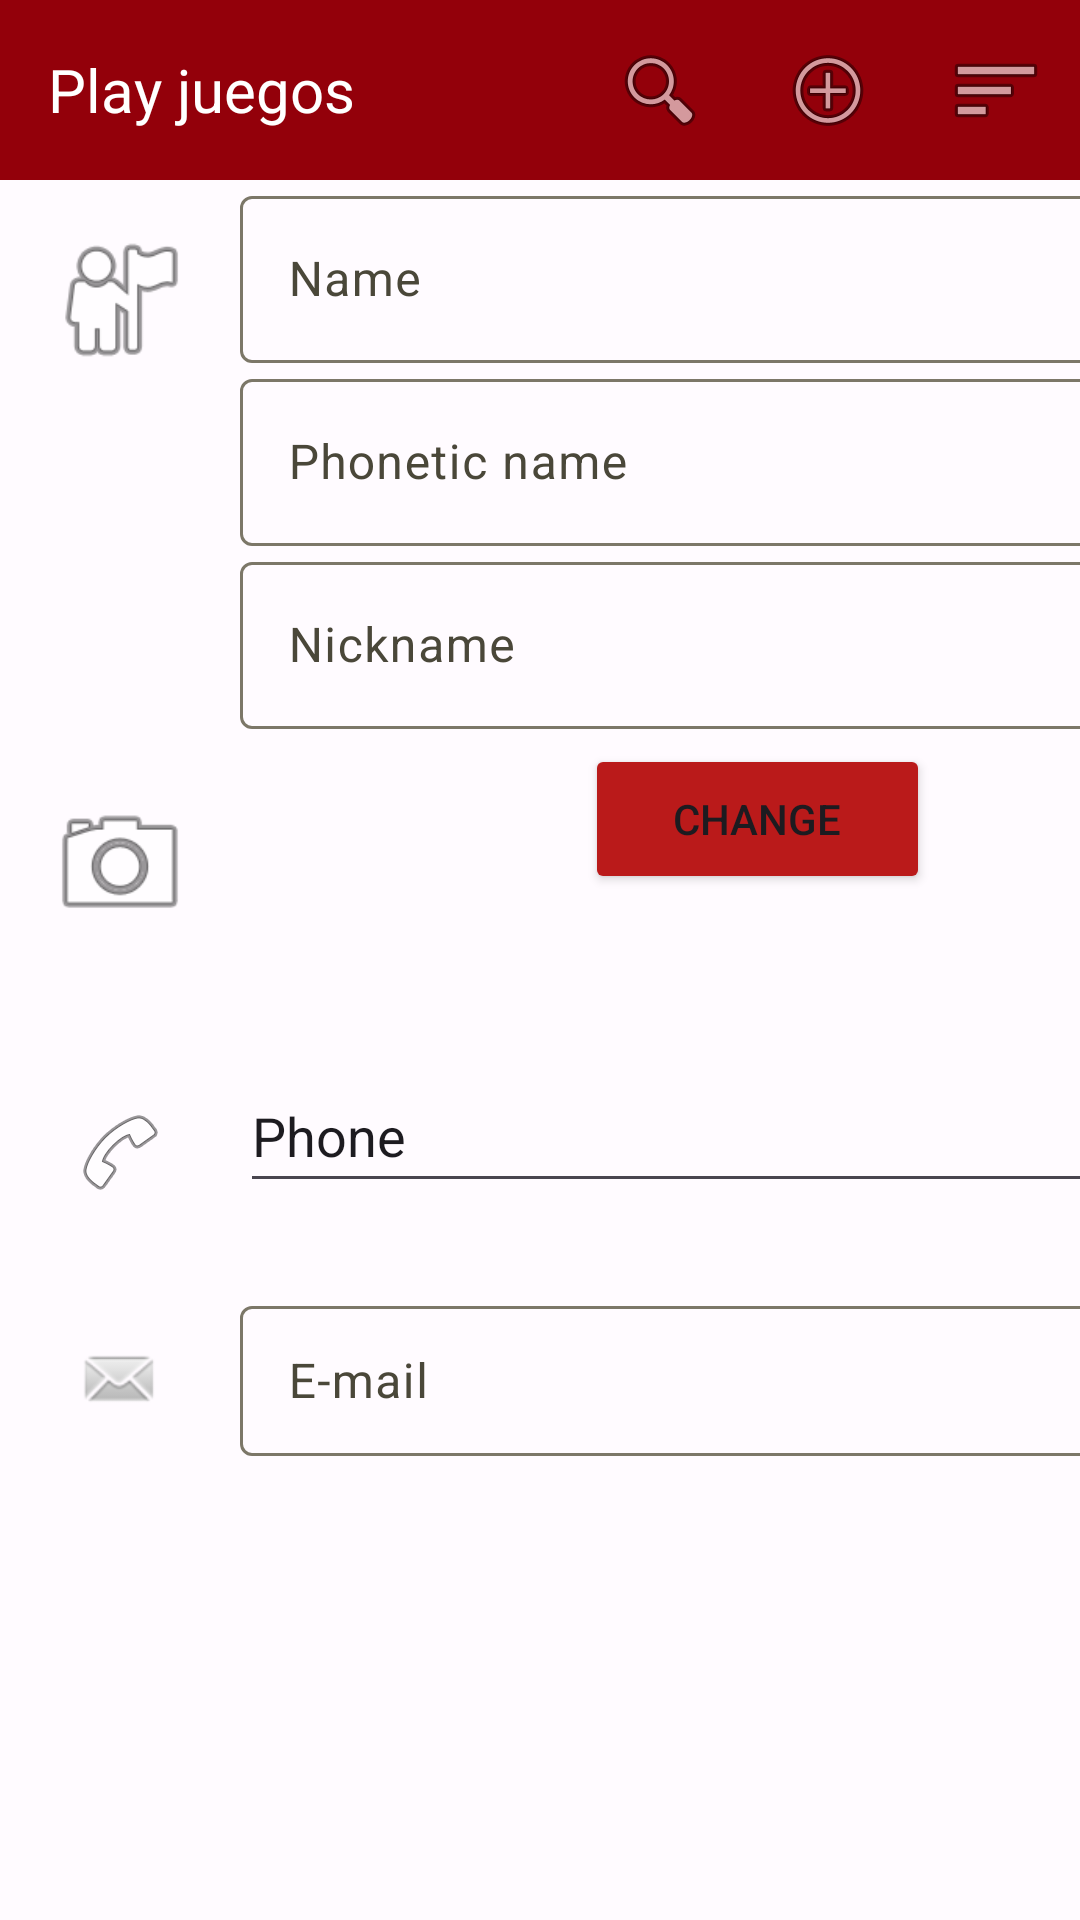

Locate icon controls on the screen. Image size 1080×1920, boxes as (x1, y1, x2, y2).
add: (793, 55, 863, 126)
call: (83, 1115, 158, 1190)
camera: (62, 815, 178, 908)
myplaces: (65, 244, 178, 356)
search: (625, 55, 695, 126)
sort by size: (955, 64, 1037, 117)
